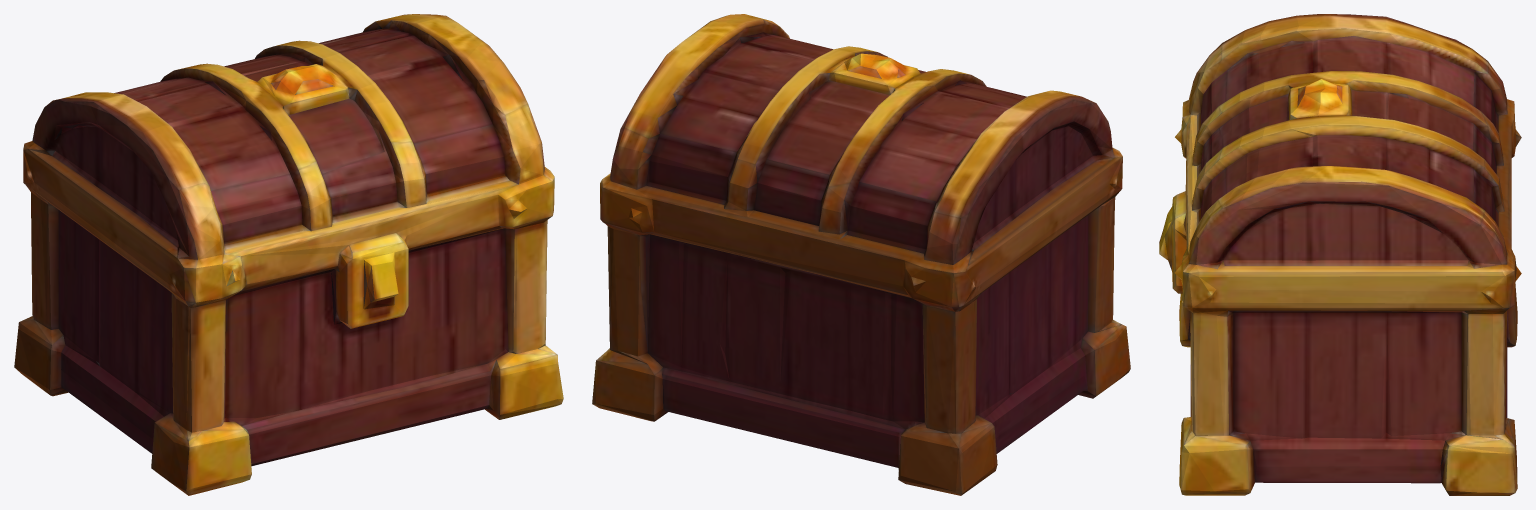
The model's file is chest_gilded.glb.
The picture shows the model from 3 angles, left to right: view 1: azimuth 30°, elevation 25°; view 2: azimuth 150°, elevation 25°; view 3: azimuth 270°, elevation 25°; orthographic projection. The views are drawn at different scales.
Parts seen in each view (by area): view 1: lid, body; view 2: lid, body; view 3: lid, body.
Part boxes in pixels (bbox=[...]): lid: bbox=[23, 14, 554, 297]; body: bbox=[14, 178, 563, 495]; lid: bbox=[600, 14, 1122, 301]; body: bbox=[592, 185, 1130, 495]; lid: bbox=[1170, 14, 1521, 303]; body: bbox=[1159, 149, 1517, 495].
Size of the model in its own units: 1 by 0.8385 by 0.8495.
2 materials, 2 textured.
